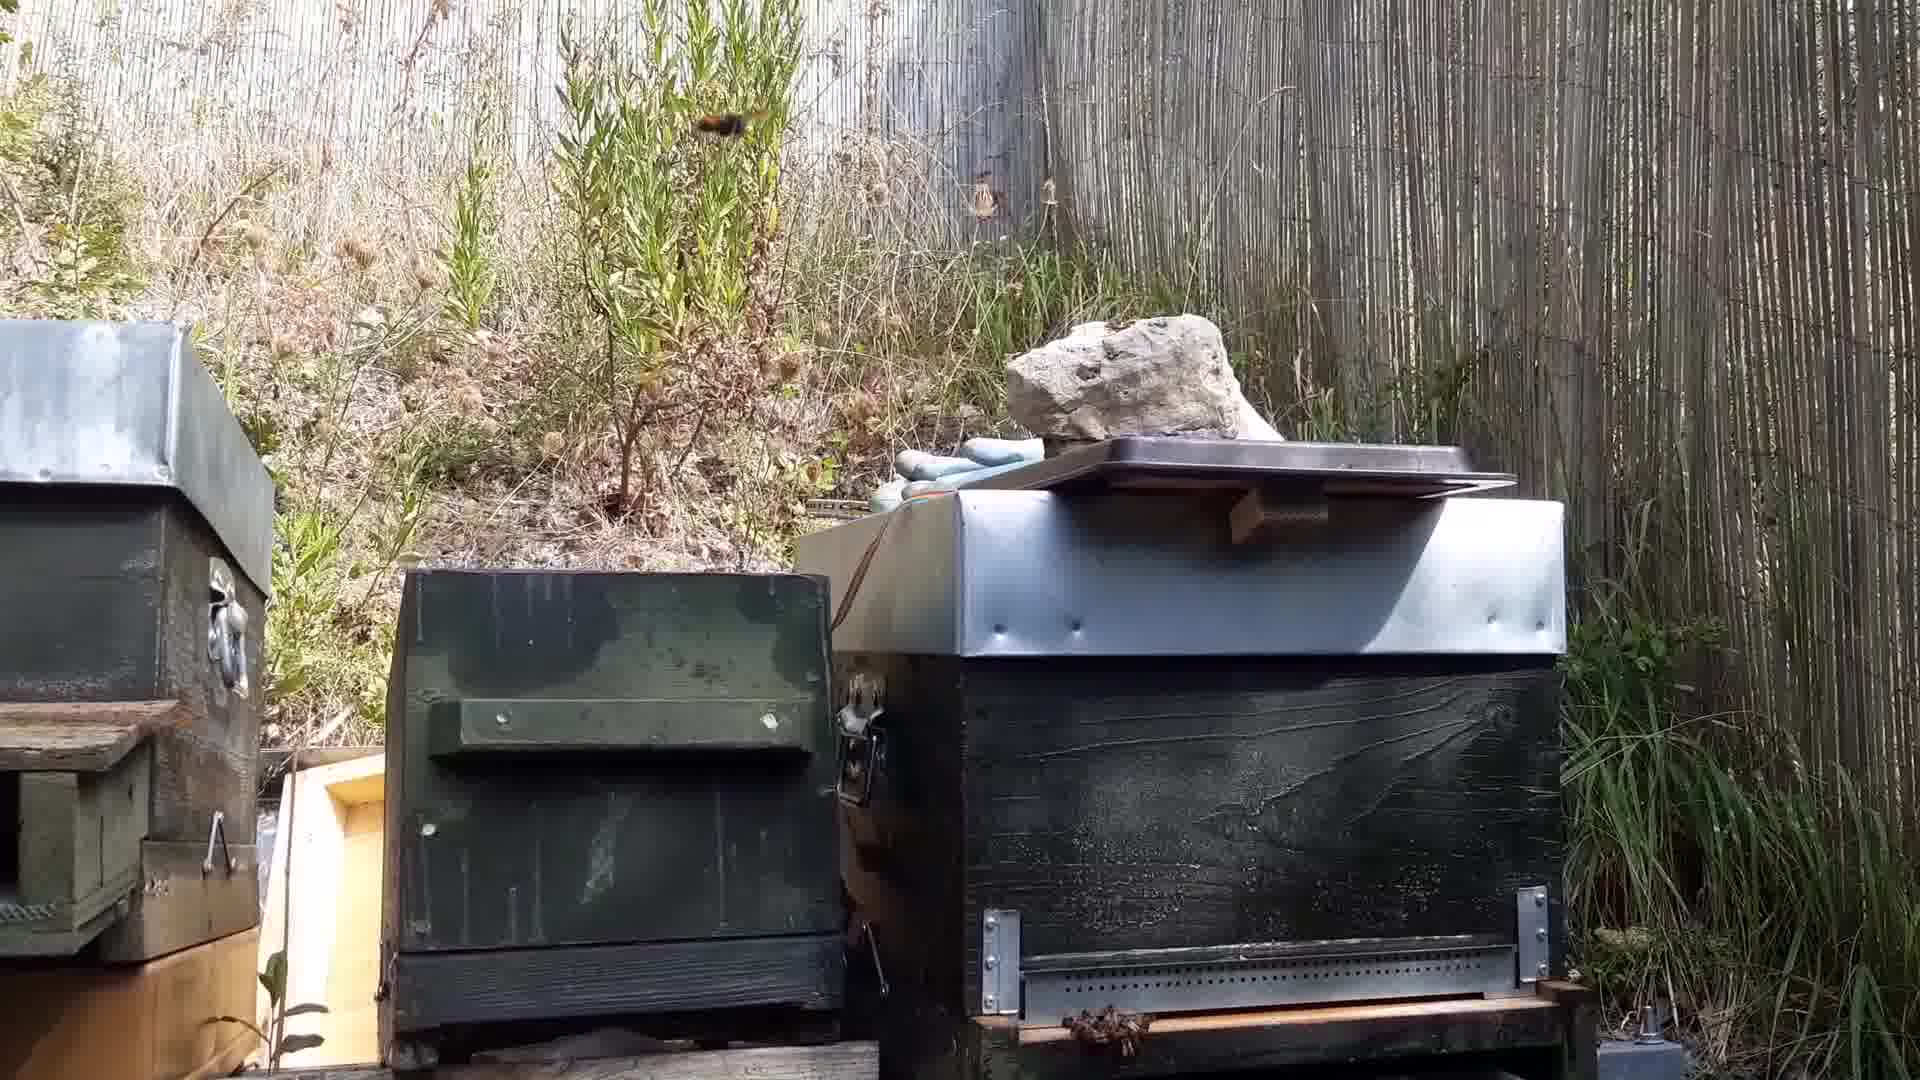bee: (1060, 1005, 1159, 1055)
hornet: (691, 102, 764, 153)
